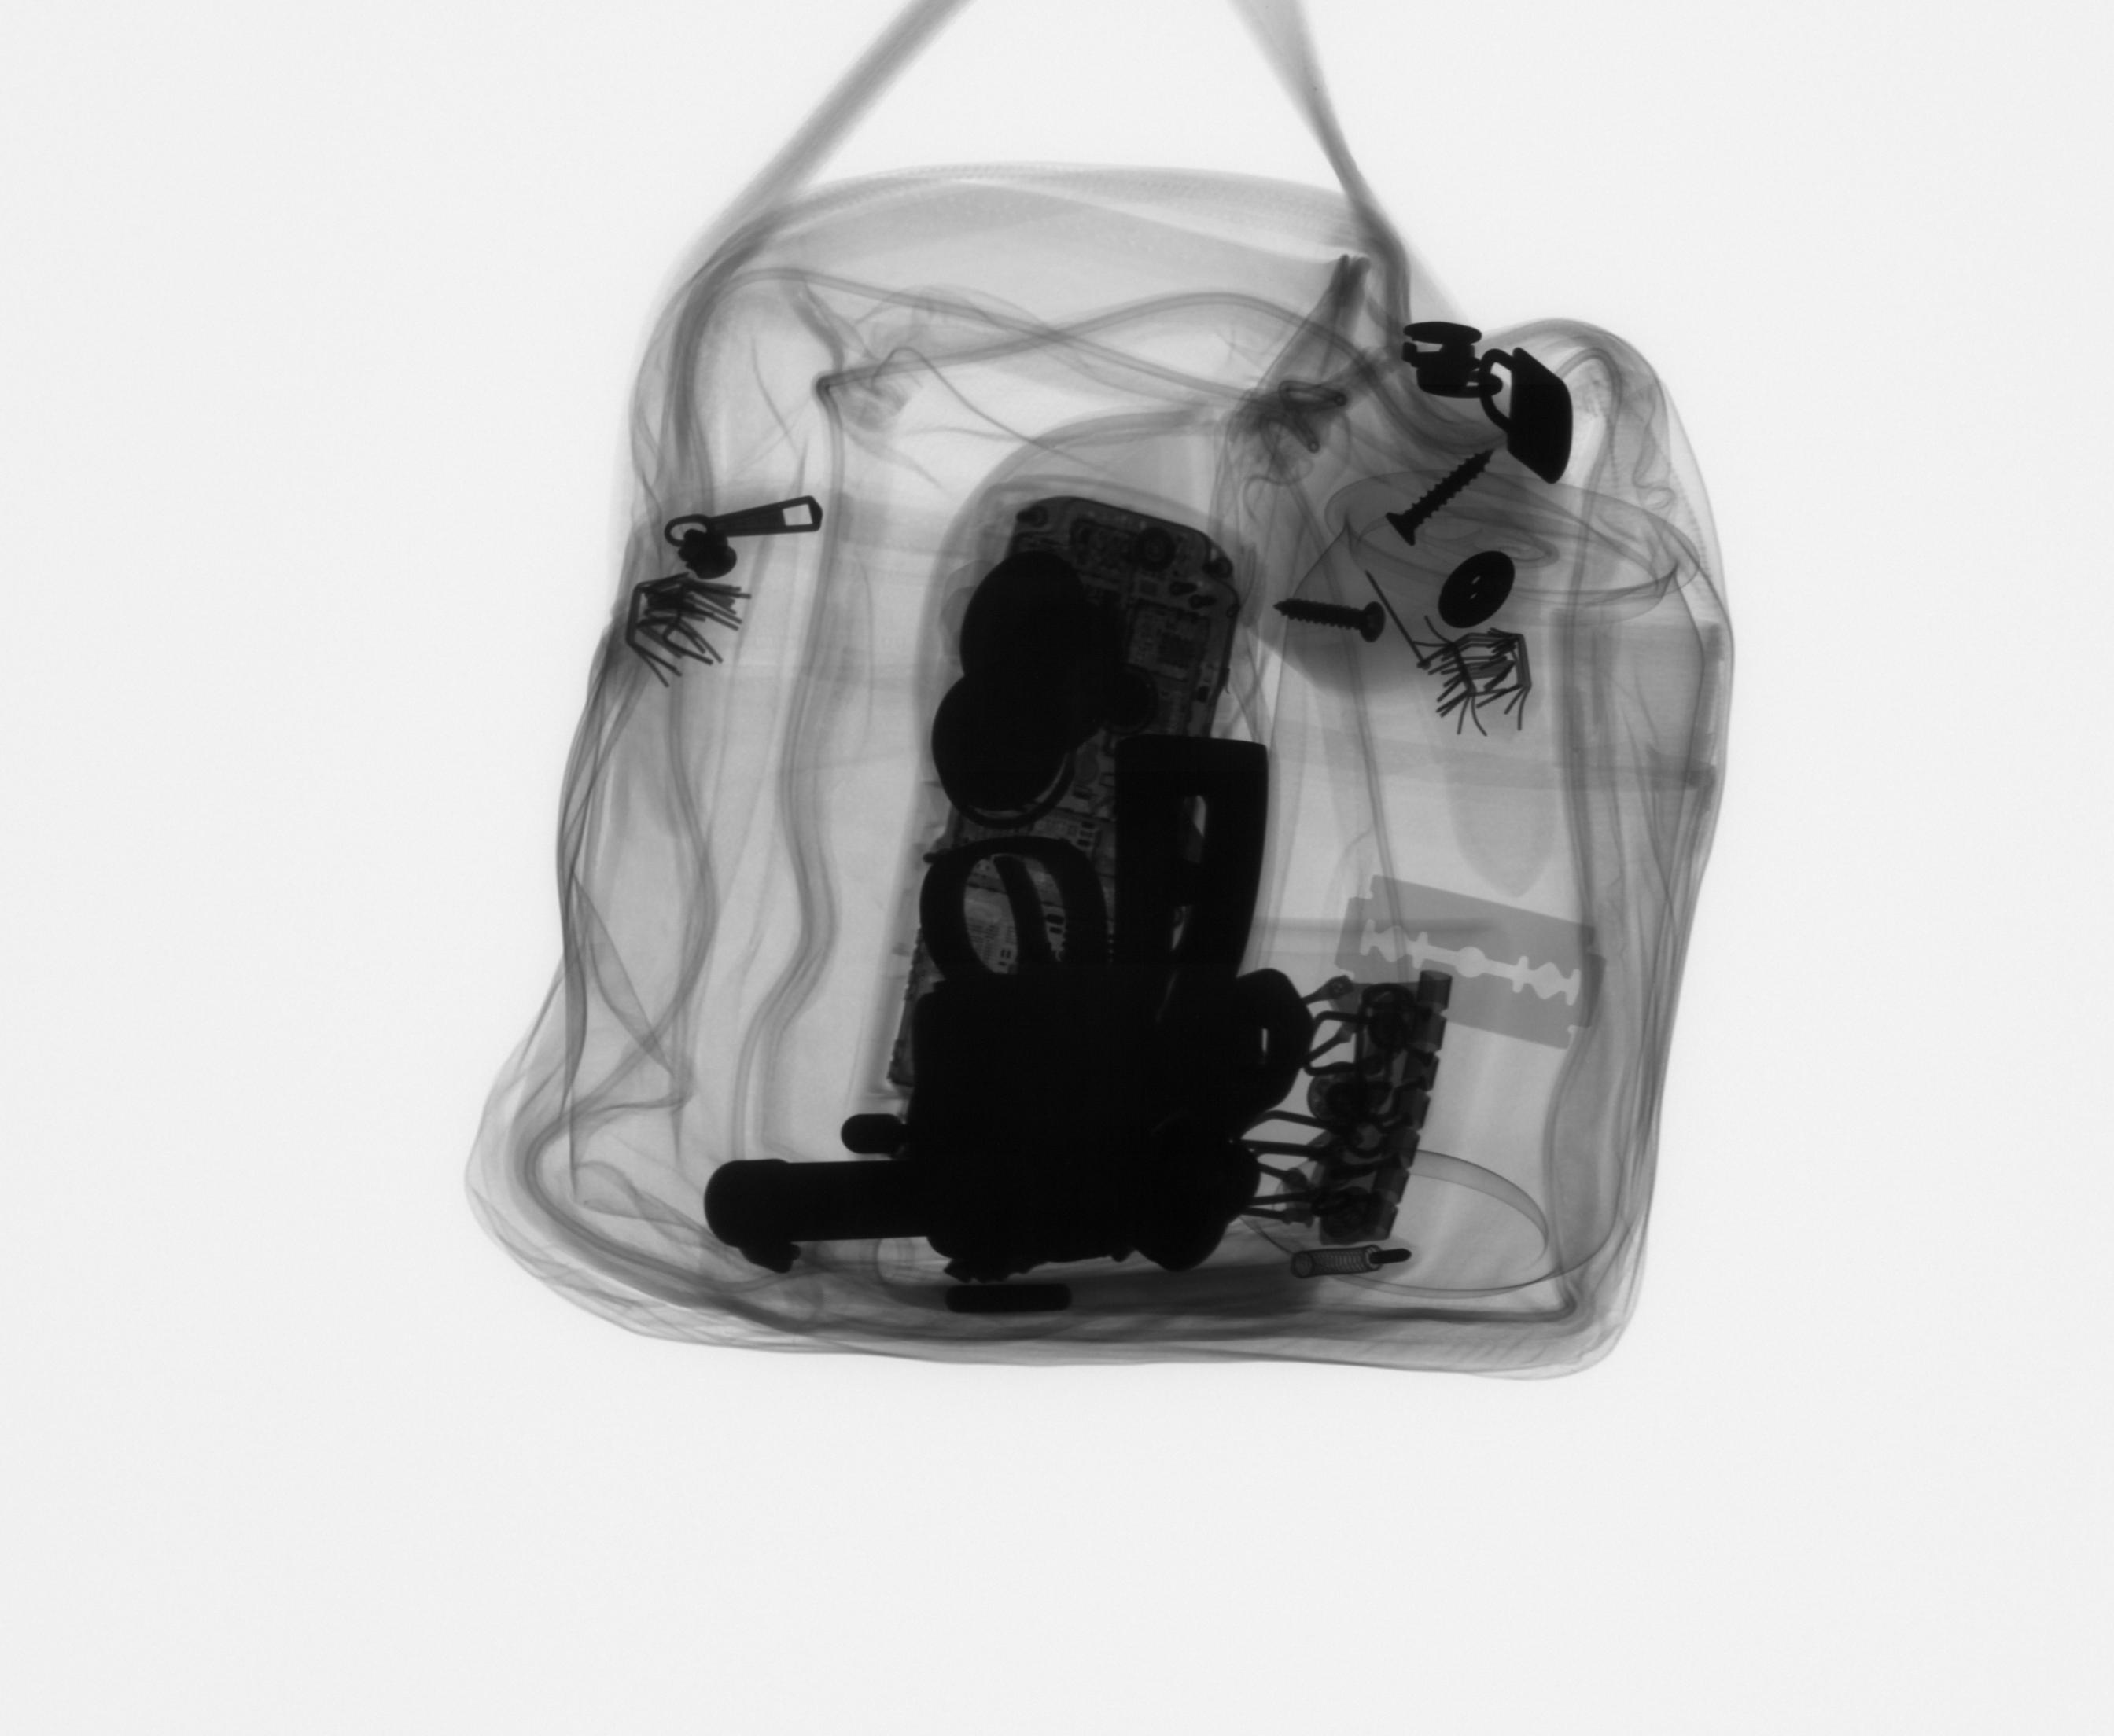Handgun: (695, 721, 1289, 1294)
RazorBlade: (1327, 869, 1615, 1057)
